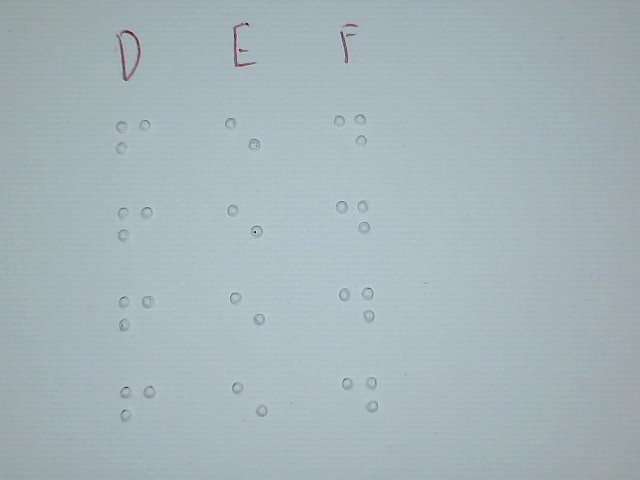D: (332, 99, 369, 168), (335, 184, 372, 253), (338, 273, 375, 342), (341, 361, 378, 430)
E: (224, 101, 261, 170), (226, 191, 263, 260), (229, 277, 266, 346), (231, 367, 268, 436)
F: (115, 106, 152, 175), (117, 191, 154, 260), (117, 281, 154, 350), (119, 372, 156, 441)
